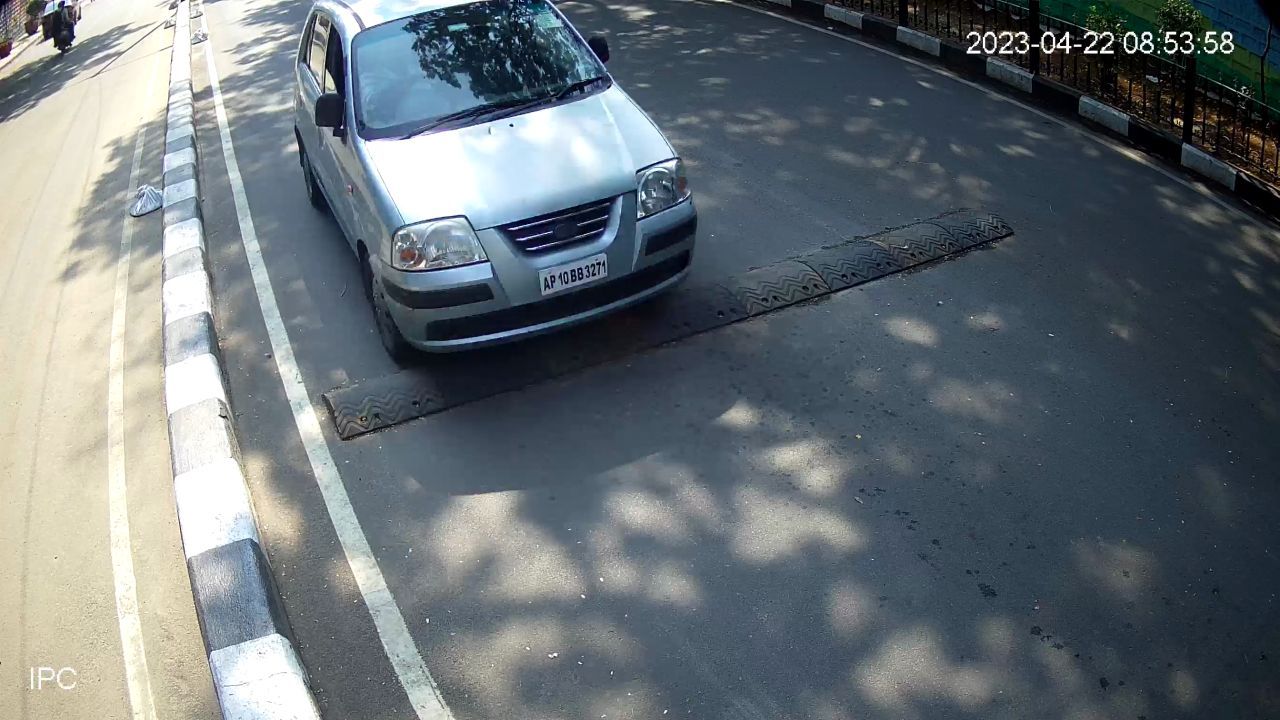license_plate: (530, 247, 614, 300)
